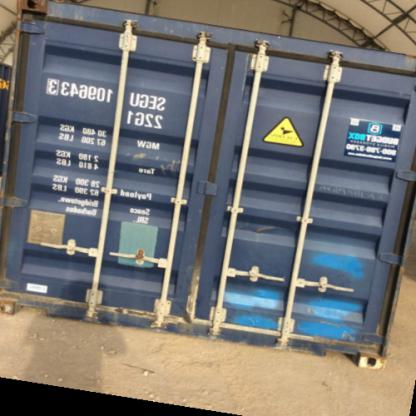Damage: (40, 289, 160, 323), (300, 327, 381, 367), (168, 272, 206, 330)
